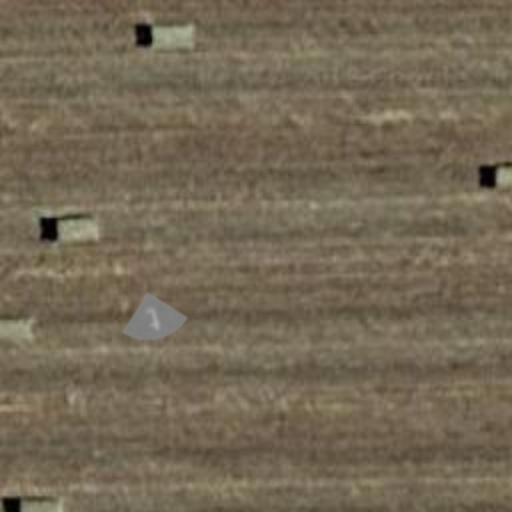quarter_circle: (116, 282, 192, 358)
